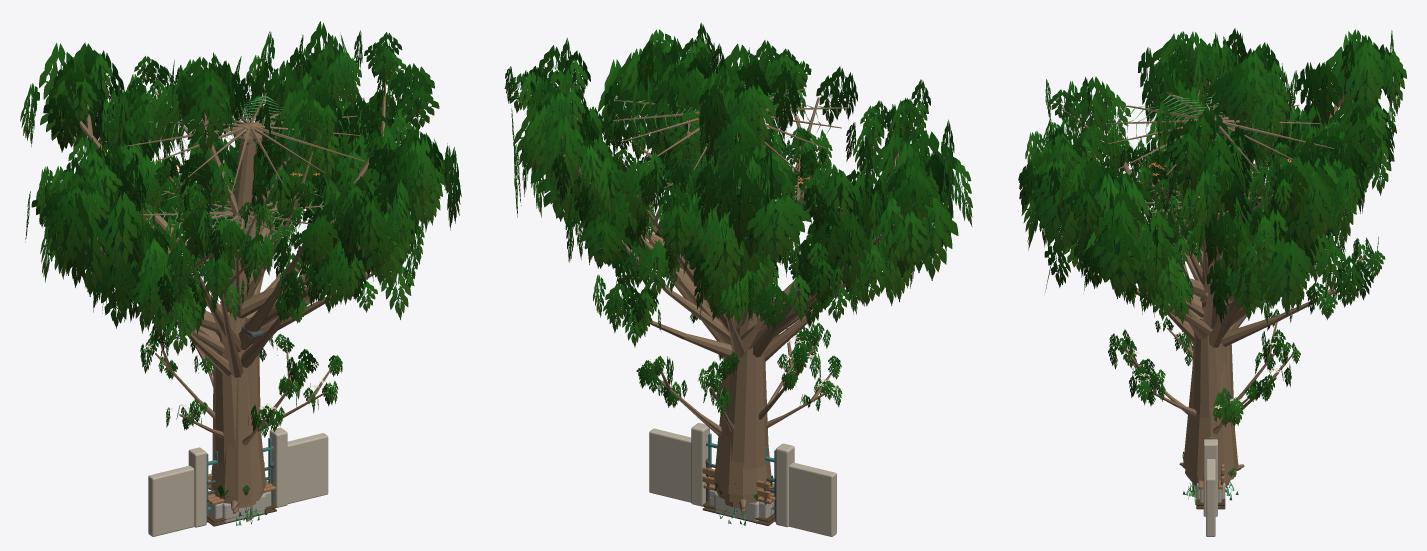
File: landscape.glb
The picture shows the model from 3 angles, left to right: view 1: azimuth 30°, elevation 25°; view 2: azimuth 150°, elevation 25°; view 3: azimuth 270°, elevation 25°; orthographic projection. The views are drawn at different scales.
Parts seen in each view (by area): view 1: Tree_Broadleaf_B_Wind_Broadleaf_Cutout, Tree_Broadleaf_A_Wind_Broadleaf_Cutout, Tree_Rain_A_Wind_Broadleaf_Cutout, Tree_Mango_A_Wind_Broadleaf_Cutout, GardenWall_Gate_GardenWall_Warm, Tree_Rain_A_Bark_Mottled, Tree_Broadleaf_C_Wind_Broadleaf_Cutout, Tree_Broadleaf_B_Bark_Mottled, Tree_Flowering_A_Wind_FloweringLeaf_Cutout, Tree_Frangipani_A_Wind_FloweringLeaf_Cutout, Palm_Coconut_A_Bark_Mottled, Tree_Mango_A_Bark_Mottled (+8 smaller); view 2: Tree_Broadleaf_B_Wind_Broadleaf_Cutout, Tree_Broadleaf_A_Wind_Broadleaf_Cutout, Tree_Rain_A_Wind_Broadleaf_Cutout, Tree_Mango_A_Wind_Broadleaf_Cutout, GardenWall_Gate_GardenWall_Warm, Tree_Broadleaf_C_Wind_Broadleaf_Cutout, Tree_Broadleaf_B_Bark_Mottled, Tree_Frangipani_A_Wind_FloweringLeaf_Cutout, Tree_Rain_A_Bark_Mottled, Tree_Mango_A_Bark_Mottled, Tree_Flowering_A_Wind_FloweringLeaf_Cutout, Tree_Frangipani_A_Bark_Mottled (+4 smaller); view 3: Tree_Broadleaf_B_Wind_Broadleaf_Cutout, Tree_Broadleaf_A_Wind_Broadleaf_Cutout, Tree_Rain_A_Wind_Broadleaf_Cutout, Tree_Mango_A_Wind_Broadleaf_Cutout, Tree_Broadleaf_C_Wind_Broadleaf_Cutout, Tree_Frangipani_A_Wind_FloweringLeaf_Cutout, Tree_Rain_A_Bark_Mottled, Tree_Flowering_A_Wind_FloweringLeaf_Cutout, Tree_Broadleaf_A_Bark_Mottled, Tree_Mango_A_Bark_Mottled, Palm_Coconut_A_Bark_Mottled, GardenWall_Gate_GardenWall_Warm (+5 smaller).
Boxes of the visible parts, left/top/right/bottom form: Tree_Broadleaf_B_Wind_Broadleaf_Cutout: left=20, top=21, right=461, bottom=328; Tree_Broadleaf_A_Wind_Broadleaf_Cutout: left=48, top=74, right=419, bottom=312; Tree_Rain_A_Wind_Broadleaf_Cutout: left=25, top=32, right=439, bottom=319; Tree_Mango_A_Wind_Broadleaf_Cutout: left=104, top=94, right=400, bottom=331; GardenWall_Gate_GardenWall_Warm: left=148, top=427, right=328, bottom=536; Tree_Rain_A_Bark_Mottled: left=155, top=72, right=407, bottom=497; Tree_Broadleaf_C_Wind_Broadleaf_Cutout: left=110, top=130, right=371, bottom=355; Tree_Broadleaf_B_Bark_Mottled: left=79, top=104, right=392, bottom=510; Tree_Flowering_A_Wind_FloweringLeaf_Cutout: left=155, top=136, right=327, bottom=266; Tree_Frangipani_A_Wind_FloweringLeaf_Cutout: left=140, top=325, right=342, bottom=437; Palm_Coconut_A_Bark_Mottled: left=126, top=92, right=365, bottom=327; Tree_Mango_A_Bark_Mottled: left=121, top=108, right=311, bottom=377; Tree_Broadleaf_B_Wind_Broadleaf_Cutout: left=511, top=22, right=972, bottom=306; Tree_Broadleaf_A_Wind_Broadleaf_Cutout: left=514, top=40, right=908, bottom=306; Tree_Rain_A_Wind_Broadleaf_Cutout: left=504, top=38, right=954, bottom=329; Tree_Mango_A_Wind_Broadleaf_Cutout: left=583, top=100, right=927, bottom=347; GardenWall_Gate_GardenWall_Warm: left=649, top=423, right=836, bottom=536; Tree_Broadleaf_C_Wind_Broadleaf_Cutout: left=565, top=142, right=871, bottom=328; Tree_Broadleaf_B_Bark_Mottled: left=562, top=135, right=845, bottom=509; Tree_Frangipani_A_Wind_FloweringLeaf_Cutout: left=636, top=313, right=842, bottom=416; Tree_Rain_A_Bark_Mottled: left=540, top=82, right=898, bottom=495; Tree_Mango_A_Bark_Mottled: left=619, top=132, right=874, bottom=361; Tree_Flowering_A_Wind_FloweringLeaf_Cutout: left=661, top=127, right=831, bottom=268; Tree_Frangipani_A_Bark_Mottled: left=659, top=328, right=830, bottom=435; Tree_Broadleaf_B_Wind_Broadleaf_Cutout: left=1058, top=28, right=1406, bottom=303; Tree_Broadleaf_A_Wind_Broadleaf_Cutout: left=1018, top=65, right=1396, bottom=324; Tree_Rain_A_Wind_Broadleaf_Cutout: left=1025, top=31, right=1395, bottom=307; Tree_Mango_A_Wind_Broadleaf_Cutout: left=1043, top=111, right=1385, bottom=319; Tree_Broadleaf_C_Wind_Broadleaf_Cutout: left=1115, top=125, right=1345, bottom=324; Tree_Frangipani_A_Wind_FloweringLeaf_Cutout: left=1108, top=307, right=1300, bottom=427; Tree_Rain_A_Bark_Mottled: left=1062, top=81, right=1367, bottom=476; Tree_Flowering_A_Wind_FloweringLeaf_Cutout: left=1120, top=119, right=1296, bottom=232; Tree_Broadleaf_A_Bark_Mottled: left=1052, top=184, right=1259, bottom=483; Tree_Mango_A_Bark_Mottled: left=1094, top=154, right=1363, bottom=347; Palm_Coconut_A_Bark_Mottled: left=1108, top=92, right=1333, bottom=300; GardenWall_Gate_GardenWall_Warm: left=1203, top=439, right=1217, bottom=536.
Bounding box in the file's own units: 11.72 × 12.18 × 9.97.
24 materials, 2 textured.
